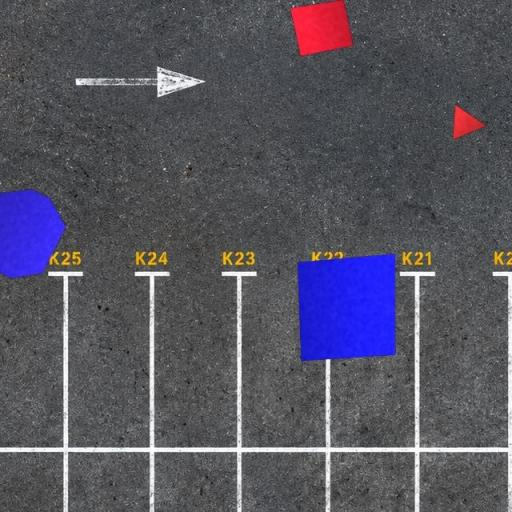BLUE_SQUARE: (297, 254, 396, 362)
RED_SQUARE: (290, 0, 354, 57)
